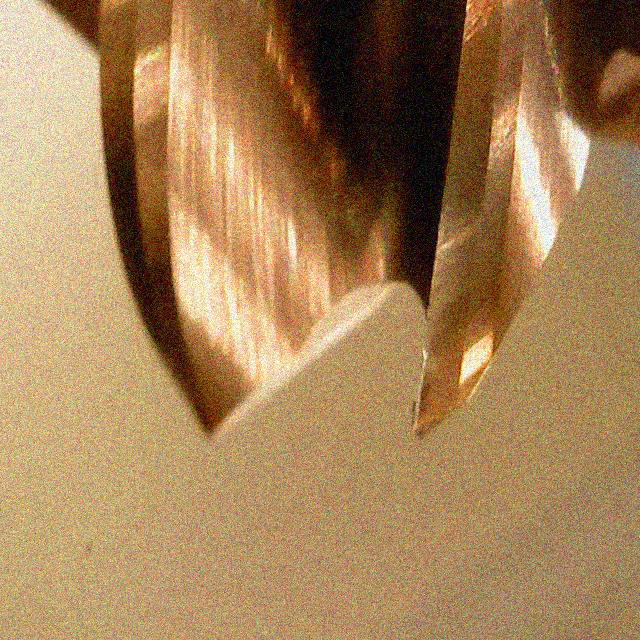Tool-wear-class-0: (402, 171, 500, 446)
